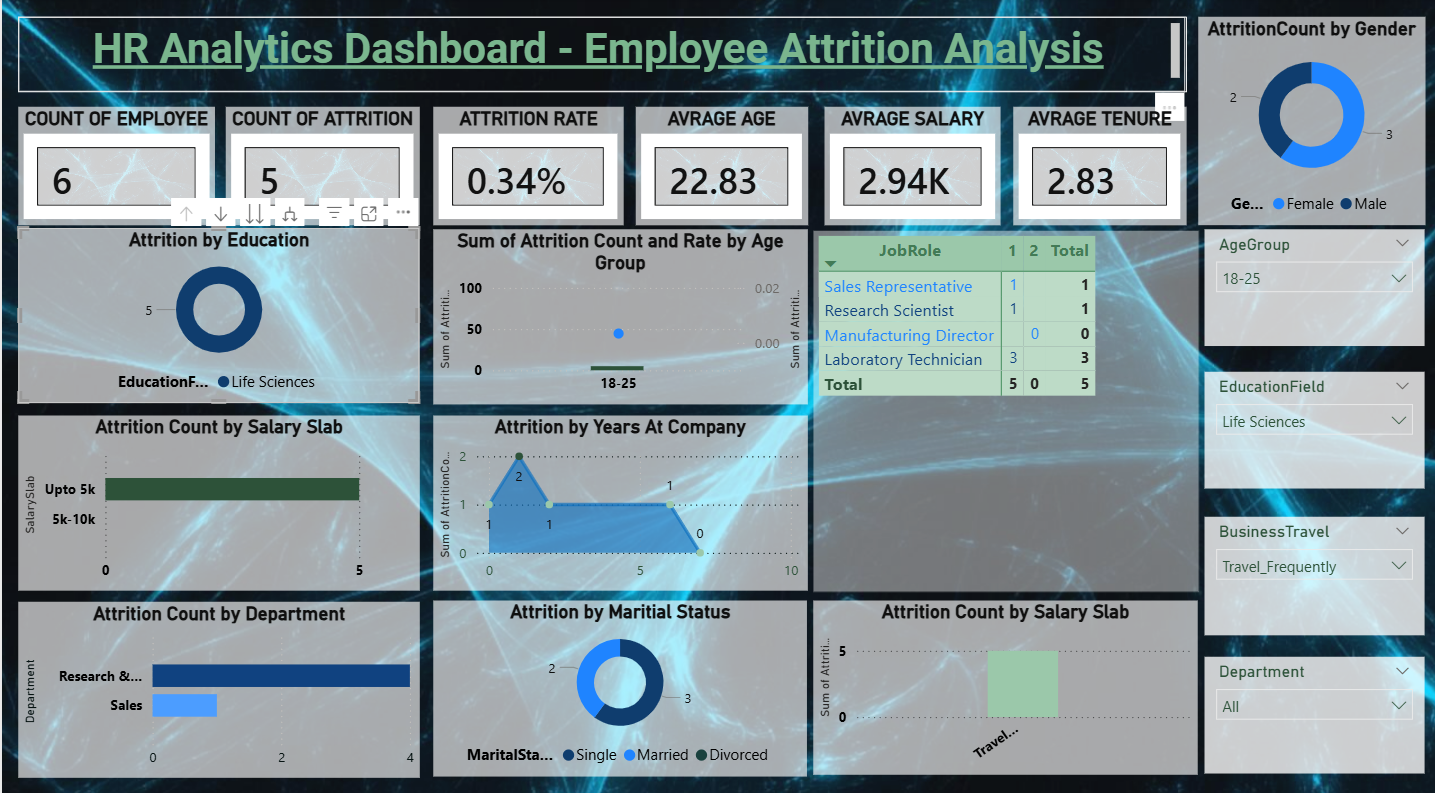

The page's visual inventory and layout, read from the dashboard file:
{"tool":"powerbi","page":{"name":"Page 1","canvas":[1280,720],"ordinal":0},"visuals":[{"type":"cardVisual","title":"COUNT OF EMPLOYEE","fields":{"Data":["CountNonNull(HR_Analytics.EmployeeCount)"]},"box":[14.2,96.6,175.1,105.6],"z":0},{"type":"textbox","box":[14.2,16.7,1040.5,67],"z":1000},{"type":"cardVisual","title":"COUNT OF ATTRITION","fields":{"Data":["Sum(HR_Analytics.AttritionCount)1"]},"box":[199.6,96.6,172.6,105.6],"z":2000},{"type":"cardVisual","title":"ATTRITION RATE","fields":{"Data":["Sum(HR_Analytics.AttritionRate)"]},"box":[383.7,96.6,170,105.6],"z":3000},{"type":"cardVisual","title":"AVRAGE AGE","fields":{"Data":["Avg(HR_Analytics.Age)"]},"box":[564,96.6,153.2,105.6],"z":4000},{"type":"cardVisual","title":"AVRAGE SALARY","fields":{"Data":["Avg(HR_Analytics.MonthlyIncome)"]},"box":[732.7,96.6,157.1,105.6],"z":5000},{"type":"cardVisual","title":"AVRAGE TENURE","fields":{"Data":["Avg(HR_Analytics.YearsAtCompany)"]},"box":[900.1,96.6,154.5,105.6],"z":6000},{"type":"donutChart","title":"AttritionCount by Gender","fields":{"Category":["HR_Analytics.Gender"],"Y":["Sum(HR_Analytics.AttritionCount)"]},"box":[1064.9,16.7,202.2,185.4],"z":7000},{"type":"donutChart","title":"Attrition by Education","fields":{"Category":["HR_Analytics.EducationField","HR_Analytics.YearsAtCompany"],"Y":["Sum(HR_Analytics.AttritionCount)"]},"box":[14.2,204.7,358,155.8],"z":8000},{"type":"lineStackedColumnComboChart","title":"Sum of Attrition Count and Rate by Age Group","fields":{"Category":["HR_Analytics.AgeGroup"],"Y":["Sum(HR_Analytics.AttritionCount)"],"Y2":["Sum(HR_Analytics.Attrition Rate)"]},"box":[383.7,206,333.5,155.8],"z":9000},{"type":"pivotTable","fields":{"Rows":["HR_Analytics.JobRole"],"Columns":["HR_Analytics.JobLevel"],"Values":["Sum(HR_Analytics.AttritionCount)"]},"box":[722,206.6,342.9,322],"z":10000},{"type":"barChart","title":"Attrition Count by Salary Slab","fields":{"Y":["Sum(HR_Analytics.AttritionCount)"],"Category":["HR_Analytics.SalarySlab"]},"box":[14.2,372.2,358,155.8],"z":11000},{"type":"areaChart","title":"Attrition by Years At Company","fields":{"Category":["HR_Analytics.YearsAtCompany"],"Y":["Sum(HR_Analytics.AttritionCount)"]},"box":[383.7,372.2,333.5,155.8],"z":12000},{"type":"barChart","title":"Attrition Count by Department","fields":{"Y":["Sum(HR_Analytics.AttritionCount)"],"Category":["HR_Analytics.Department"]},"box":[13.9,537.7,358,156.5],"z":13000},{"type":"donutChart","title":"Attrition by Maritial Status","fields":{"Y":["Sum(HR_Analytics.AttritionCount)"],"Category":["HR_Analytics.MaritalStatus"]},"box":[384.3,536.2,333.2,156.5],"z":14000},{"type":"columnChart","title":"Attrition Count by Salary Slab","fields":{"Y":["Sum(HR_Analytics.AttritionCount)"],"Category":["HR_Analytics.BusinessTravel"]},"box":[722.1,536.2,342.5,155],"z":15000},{"type":"slicer","fields":{"Values":["HR_Analytics.Department"]},"box":[1071.4,586.8,195.6,104.4],"z":16000},{"type":"slicer","fields":{"Values":["HR_Analytics.BusinessTravel"]},"box":[1071.4,461.5,195.6,105.5],"z":17000},{"type":"slicer","fields":{"Values":["HR_Analytics.AgeGroup"]},"box":[1071.4,205.5,195.6,104.4],"z":18000},{"type":"slicer","fields":{"Values":["HR_Analytics.EducationField"]},"box":[1071.4,333,195.6,104.4],"z":19000}]}

Visuals, with their boxes on the page's 1280x720 design canvas (x1, y1, x2, y2). These are canvas units, not pixel positions in the 1435x793 screenshot, which may show the page scaled, cropped or inside an application window:
"COUNT OF EMPLOYEE" cardVisual: crop(14, 97, 189, 202)
textbox: crop(14, 17, 1055, 84)
"COUNT OF ATTRITION" cardVisual: crop(200, 97, 372, 202)
"ATTRITION RATE" cardVisual: crop(384, 97, 554, 202)
"AVRAGE AGE" cardVisual: crop(564, 97, 717, 202)
"AVRAGE SALARY" cardVisual: crop(733, 97, 890, 202)
"AVRAGE TENURE" cardVisual: crop(900, 97, 1055, 202)
"AttritionCount by Gender" donutChart: crop(1065, 17, 1267, 202)
"Attrition by Education" donutChart: crop(14, 205, 372, 360)
"Sum of Attrition Count and Rate by Age Group" lineStackedColumnComboChart: crop(384, 206, 717, 362)
pivotTable - HR_Analytics.JobRole x HR_Analytics.JobLevel: crop(722, 207, 1065, 529)
"Attrition Count by Salary Slab" barChart: crop(14, 372, 372, 528)
"Attrition by Years At Company" areaChart: crop(384, 372, 717, 528)
"Attrition Count by Department" barChart: crop(14, 538, 372, 694)
"Attrition by Maritial Status" donutChart: crop(384, 536, 718, 693)
"Attrition Count by Salary Slab" columnChart: crop(722, 536, 1065, 691)
slicer - HR_Analytics.Department: crop(1071, 587, 1267, 691)
slicer - HR_Analytics.BusinessTravel: crop(1071, 462, 1267, 567)
slicer - HR_Analytics.AgeGroup: crop(1071, 206, 1267, 310)
slicer - HR_Analytics.EducationField: crop(1071, 333, 1267, 437)
